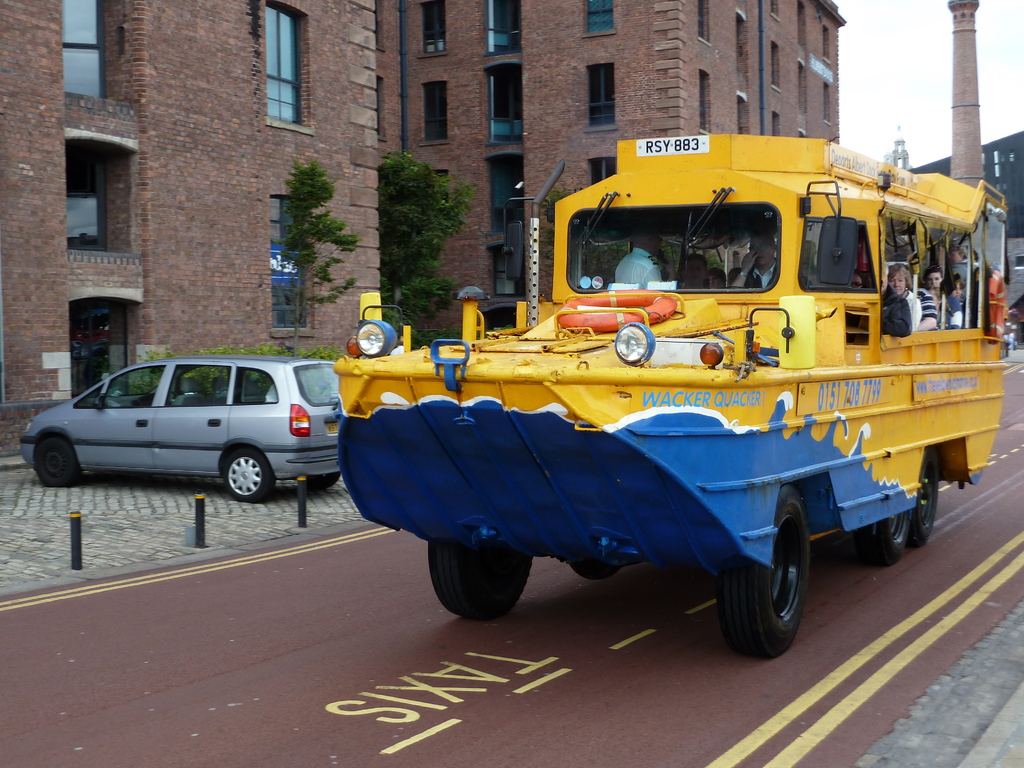Bus: (332, 134, 1009, 658)
